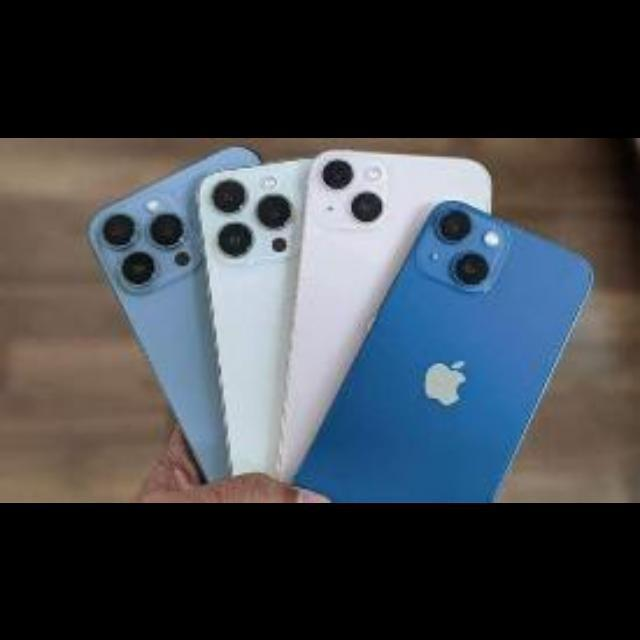phone: (25, 137, 629, 499)
